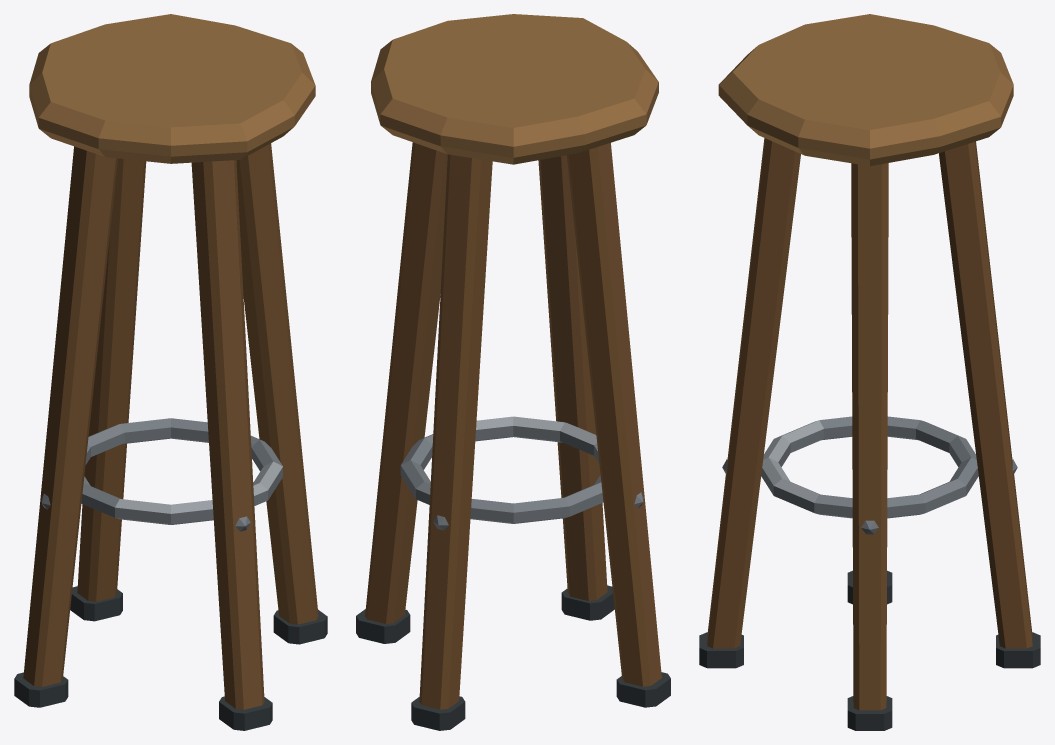
Rendered from lab-stool-f405c7.glb.
3 renders of one model, left to right at view 1: azimuth 30°, elevation 25°; view 2: azimuth 150°, elevation 25°; view 3: azimuth 270°, elevation 25°, orthographic.
Visible parts, largest first — view 1: lab-stool-mesh; view 2: lab-stool-mesh; view 3: lab-stool-mesh.
Boxes of the visible parts, box(x1,y1,x2,y2) form: lab-stool-mesh: box(14, 14, 327, 730); lab-stool-mesh: box(356, 14, 670, 730); lab-stool-mesh: box(699, 14, 1040, 730).
Bounding box in the file's own units: 0.3429 × 0.65 × 0.3429.
